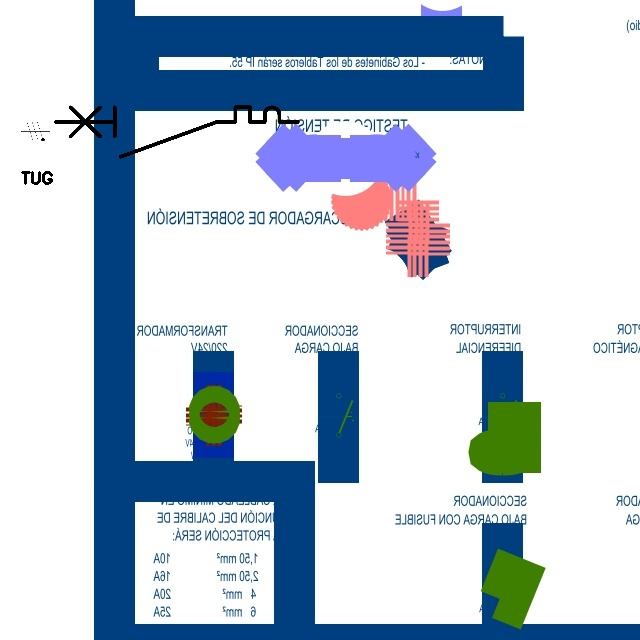interruptor_termomagnetico: (49, 101, 303, 163)
